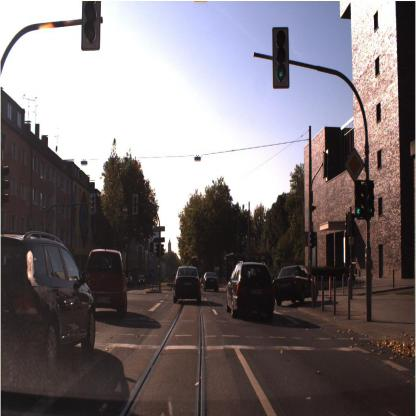other: (340, 146, 365, 184)
